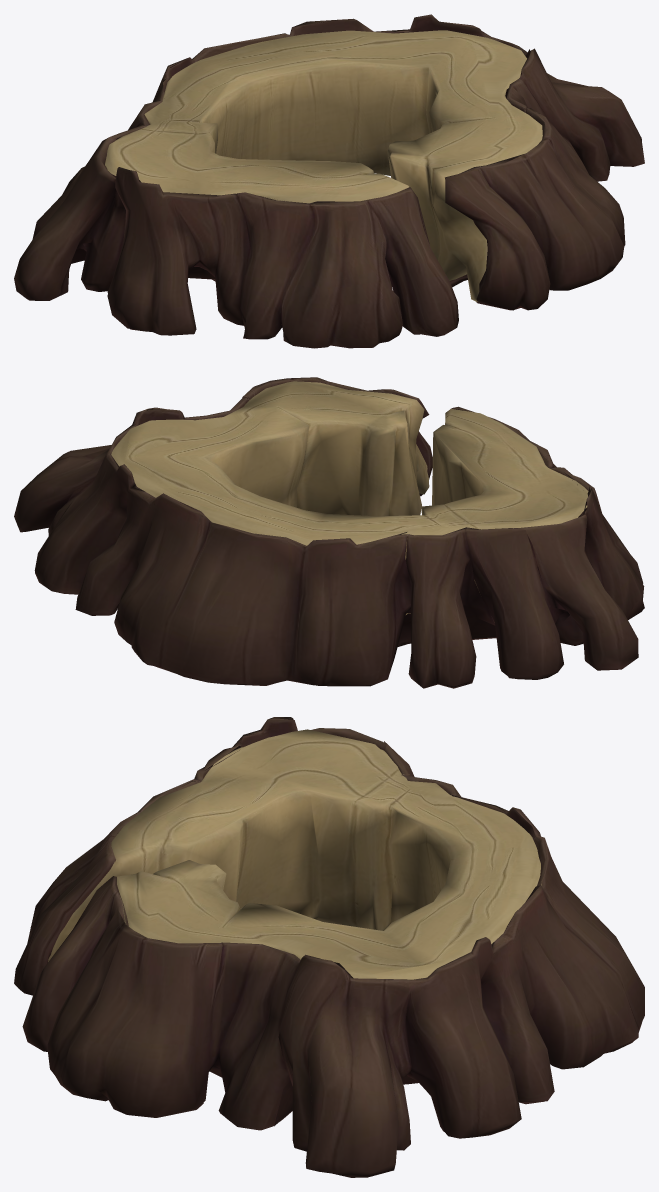
File: bog_giant_trunk_lite.glb
The picture shows the model from 3 angles, top to bottom: view 1: azimuth 30°, elevation 25°; view 2: azimuth 150°, elevation 25°; view 3: azimuth 270°, elevation 25°; orthographic projection. The views are drawn at different scales.
Parts seen in each view (by area): view 1: SM_XBOG_HRO_GiantTrunk_01; view 2: SM_XBOG_HRO_GiantTrunk_01; view 3: SM_XBOG_HRO_GiantTrunk_01.
Boxes of the visible parts, x1,y1,x2,y2 form: SM_XBOG_HRO_GiantTrunk_01: (14, 14, 644, 348); SM_XBOG_HRO_GiantTrunk_01: (14, 377, 644, 688); SM_XBOG_HRO_GiantTrunk_01: (14, 717, 644, 1177).
Bounding box in the file's own units: 44.38 × 9.43 × 33.82.
1 material, 1 textured.
